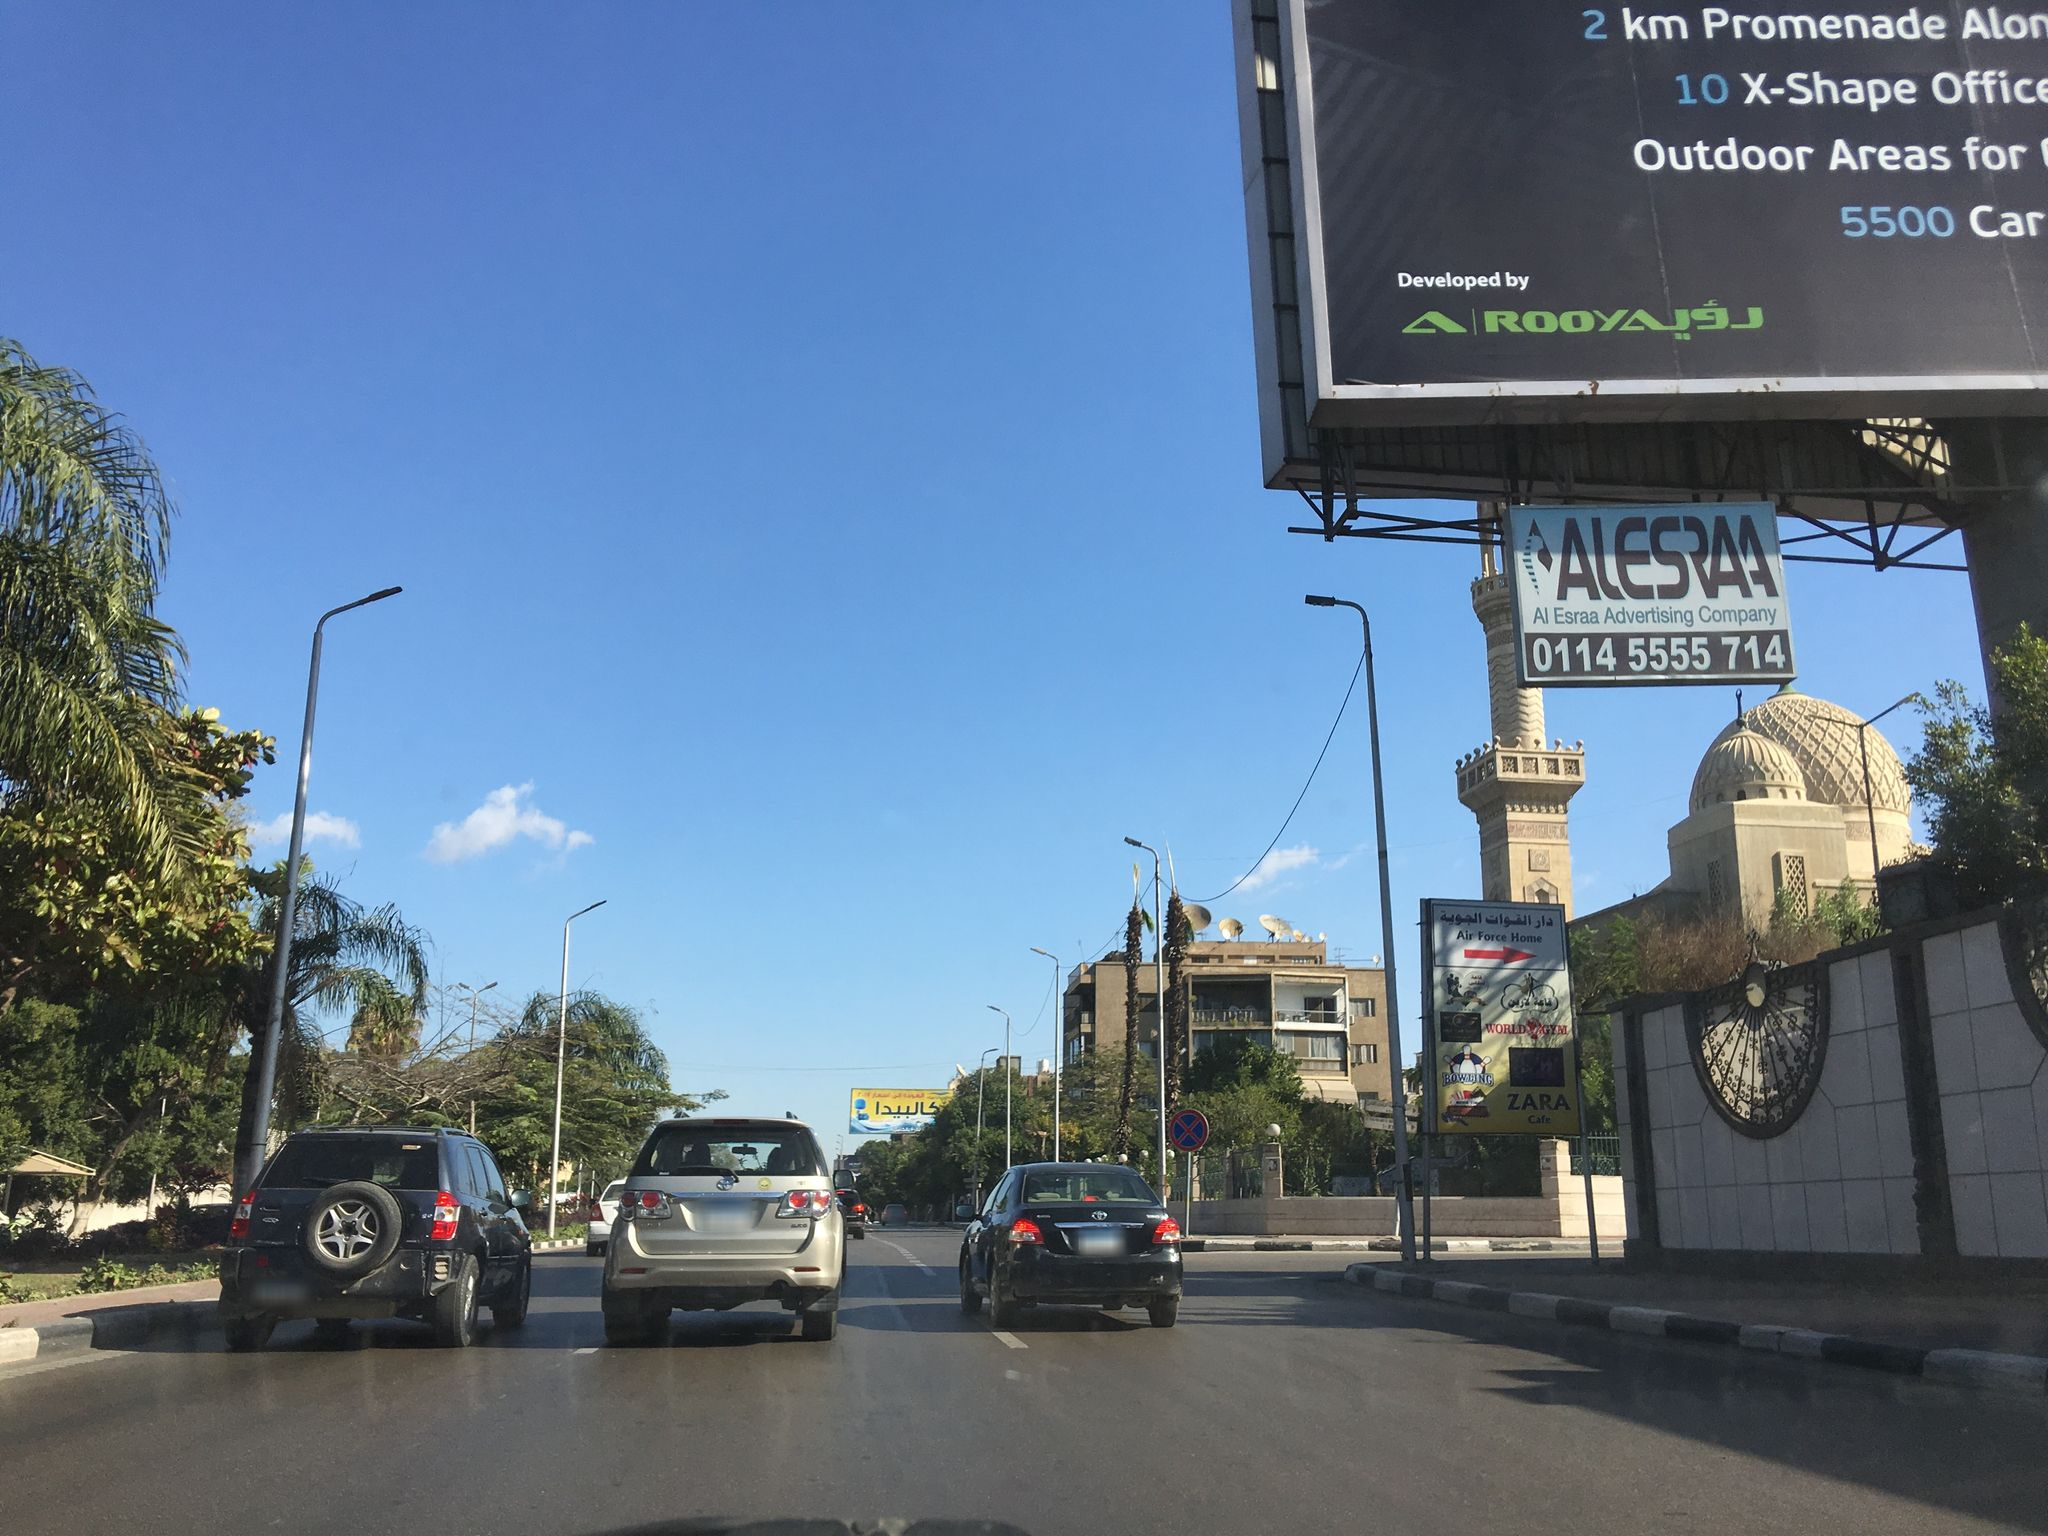car: (214, 1121, 534, 1347), (598, 1107, 856, 1342), (955, 1158, 1184, 1323), (585, 1178, 627, 1255), (834, 1187, 866, 1239), (879, 1204, 908, 1226)
